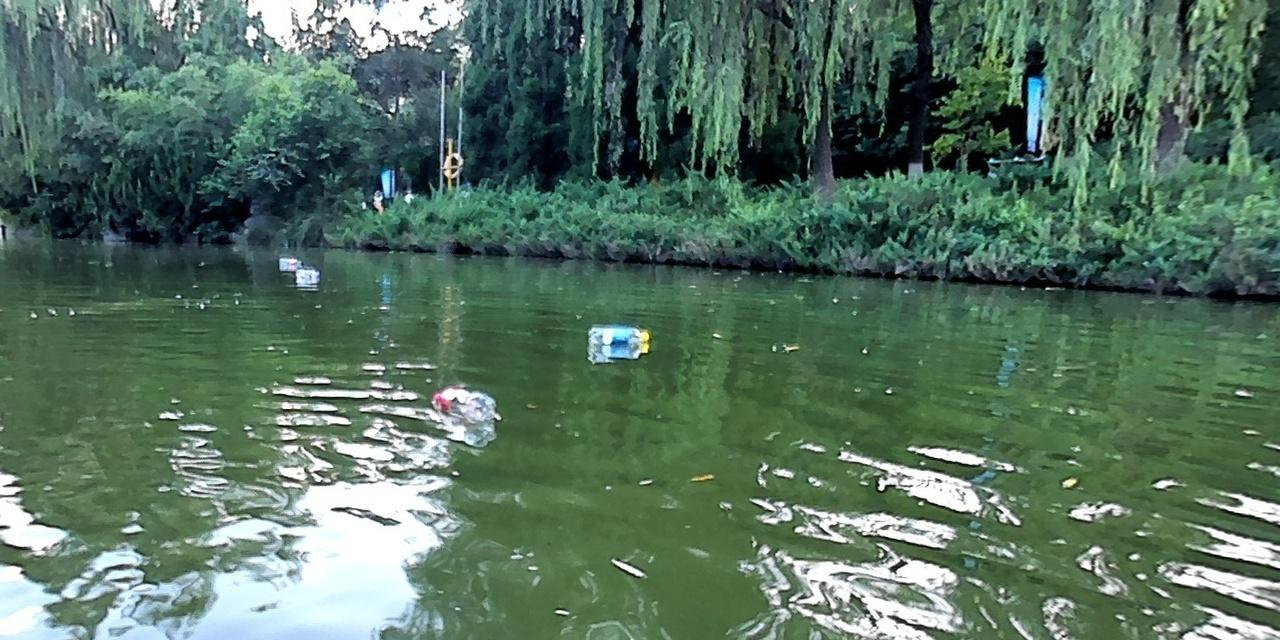bottle: (430, 387, 490, 420), (586, 324, 646, 344), (294, 269, 318, 280), (280, 257, 297, 269)
